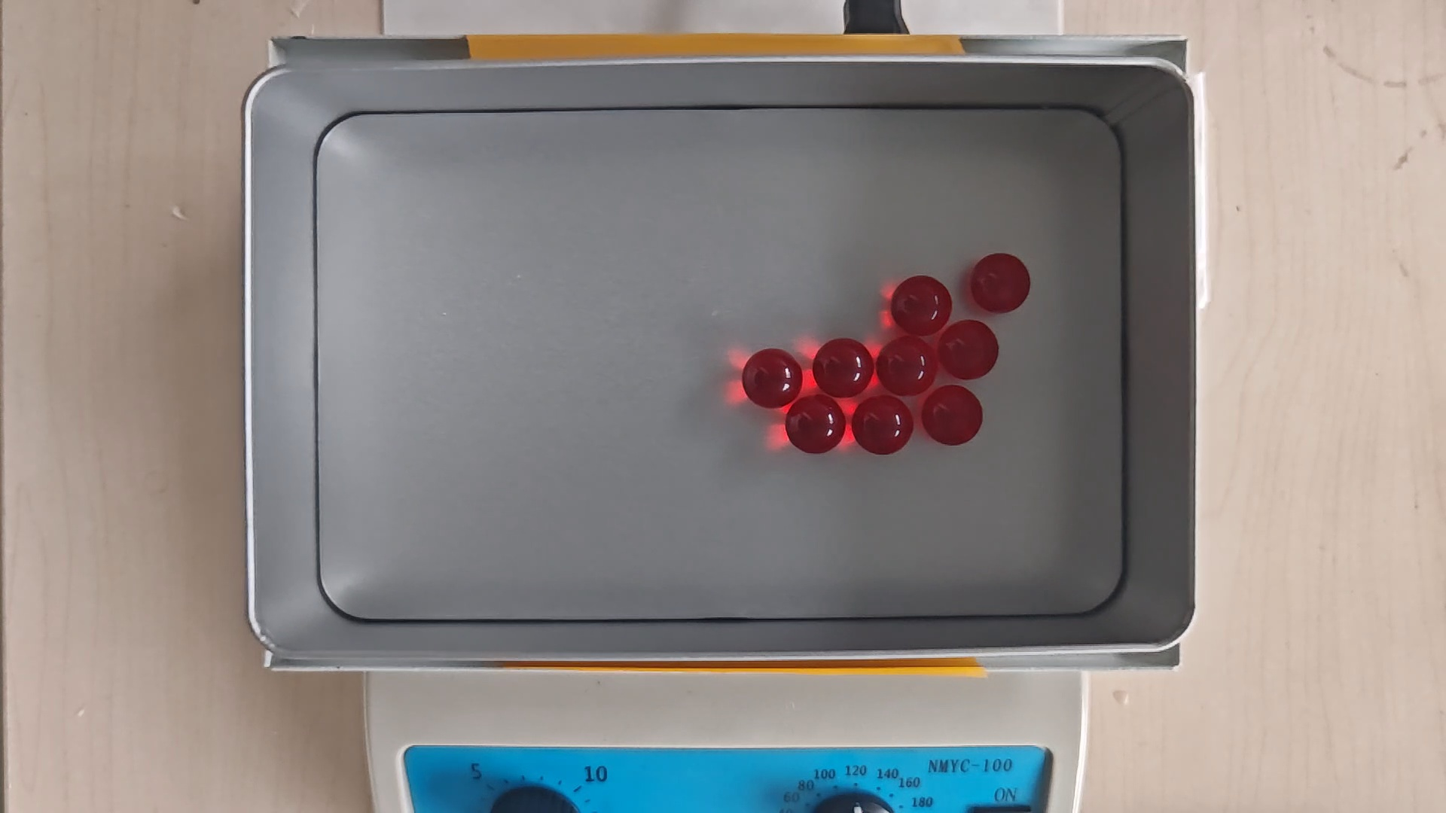ball: (852, 394, 914, 456), (922, 386, 984, 447), (971, 253, 1032, 315), (813, 337, 874, 398), (892, 275, 952, 336), (742, 348, 801, 410), (786, 395, 846, 455), (878, 336, 937, 396), (940, 320, 998, 380)
container: (316, 107, 1124, 620)
